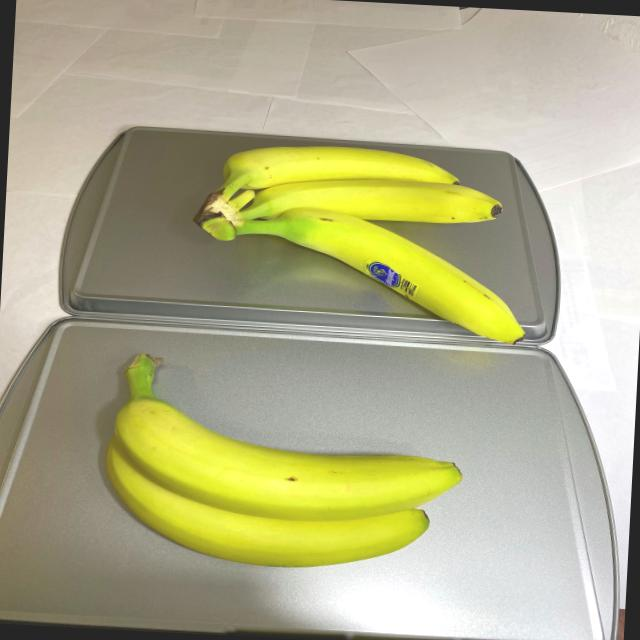banana: (89, 348, 478, 579), (184, 138, 544, 348)
